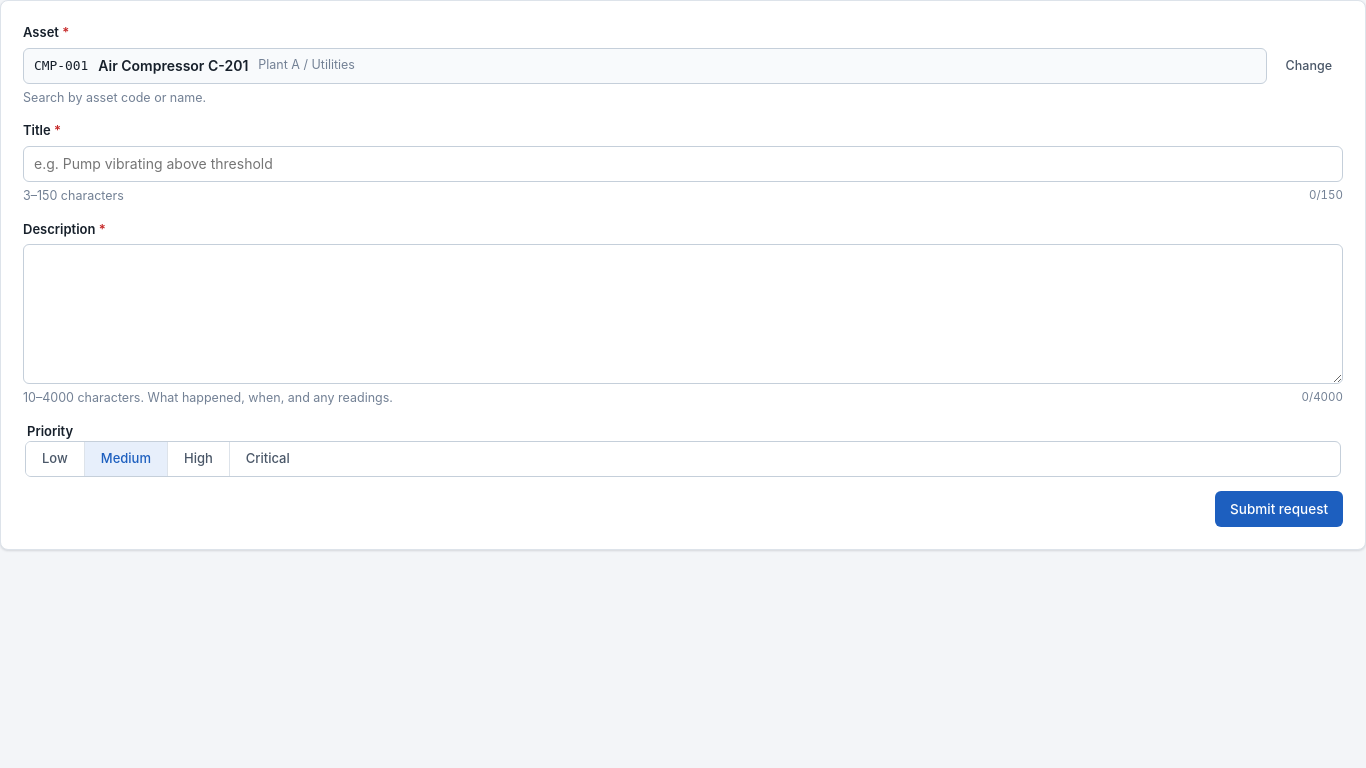
Create maintenance request form › enforces minimum lengths for title and description
This screenshot has width=1366, height=768.
Type "ab" into the field labelled "Title *" at (683, 164), box [23,146,1343,182]
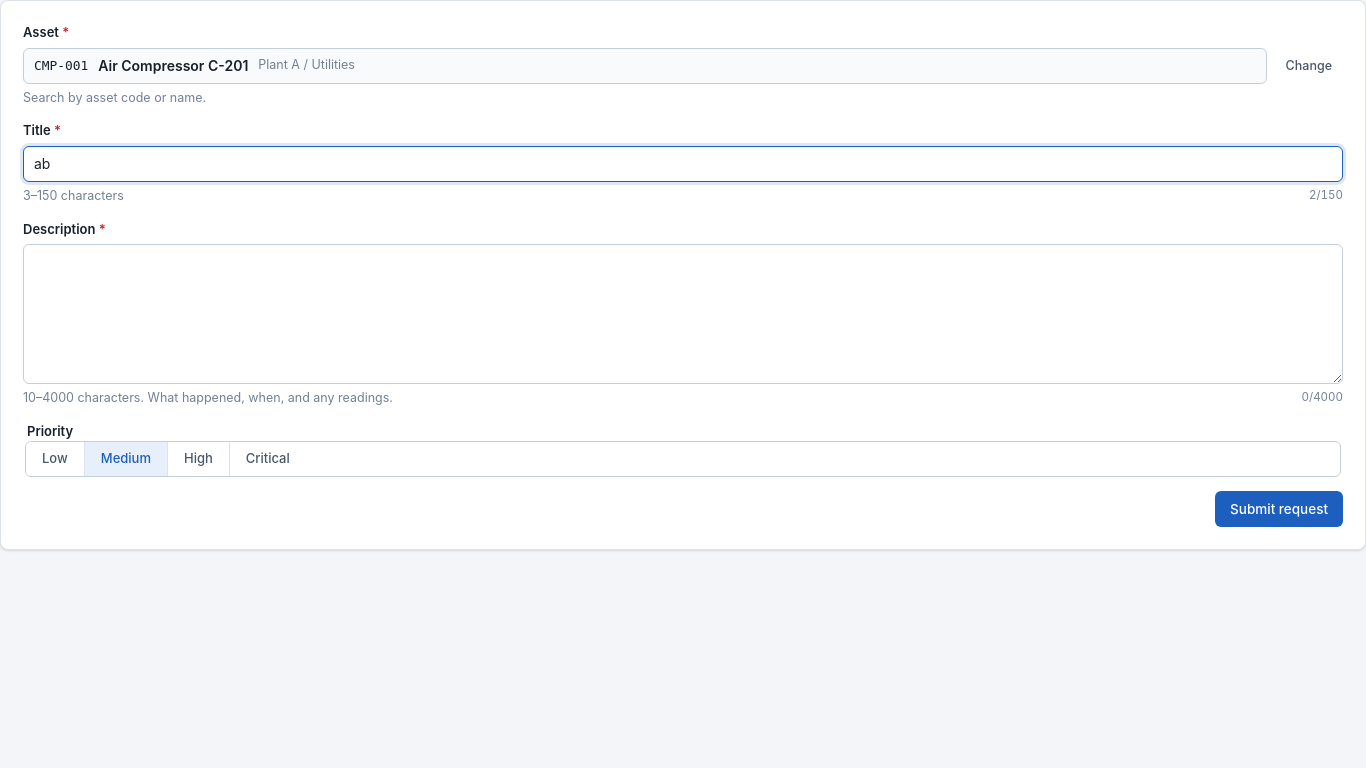
Type "too short" into the text box labelled "Description *" at (683, 314), box [23,244,1343,384]
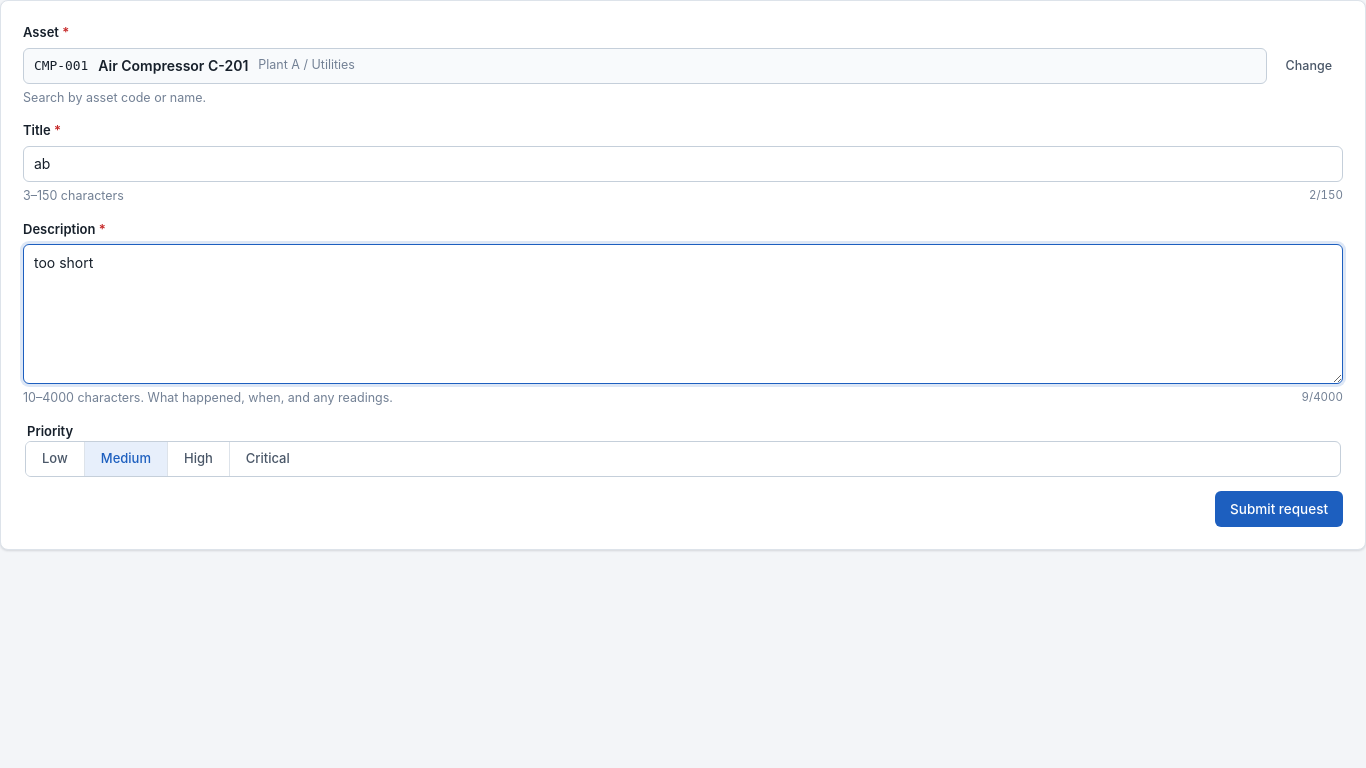
Click the button "Submit request" at (1279, 508), box [1215,490,1343,526]
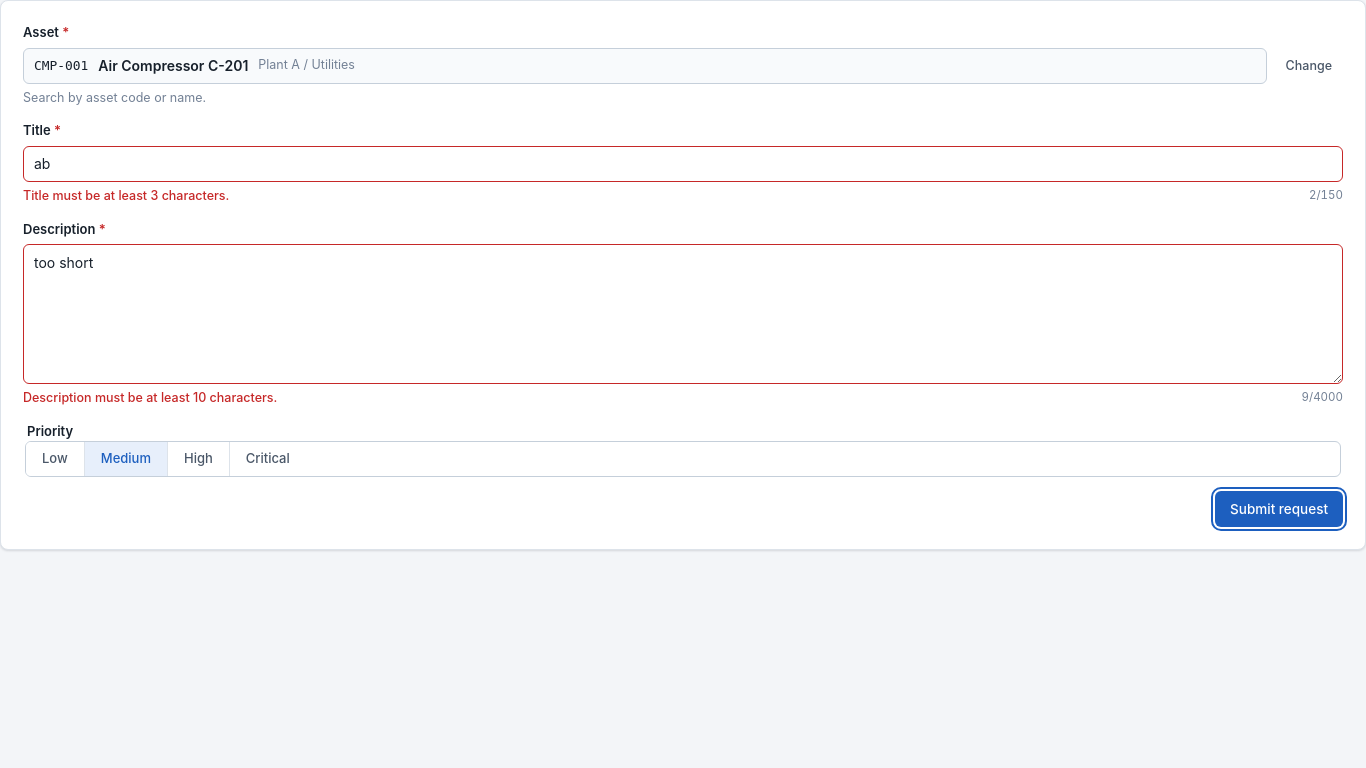
Expected: the text "Title must be at least 3 characters." is shown, [23,187,229,206]
Expected: the text "Description must be at least 10 characters." is shown, [23,389,277,408]
